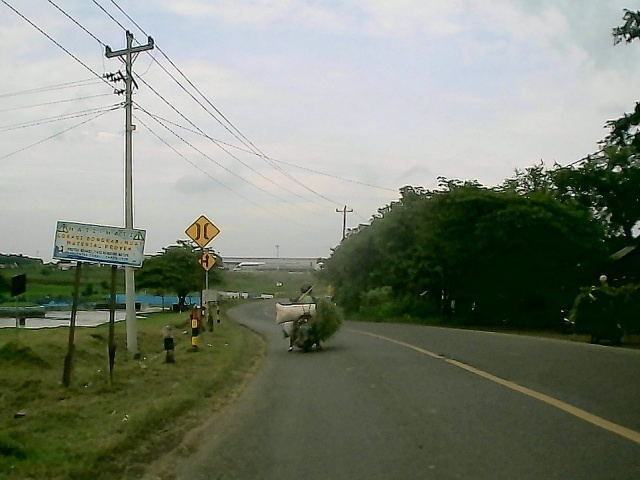Jembatan: (184, 214, 221, 249)
Simpang kiri dengan prioritas: (197, 251, 218, 273)
